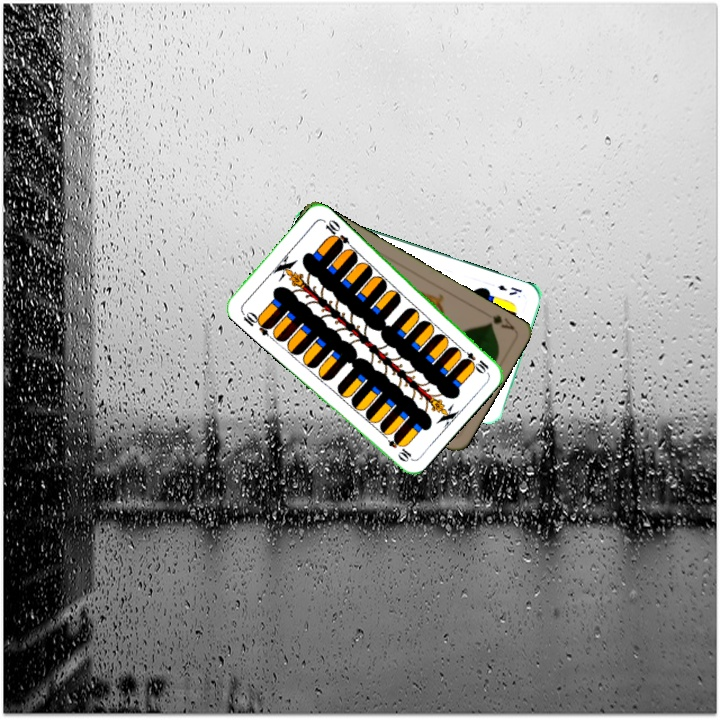E10: (237, 306, 275, 338), (455, 344, 491, 376)
EK: (494, 281, 524, 298)
GA: (484, 311, 517, 332)
